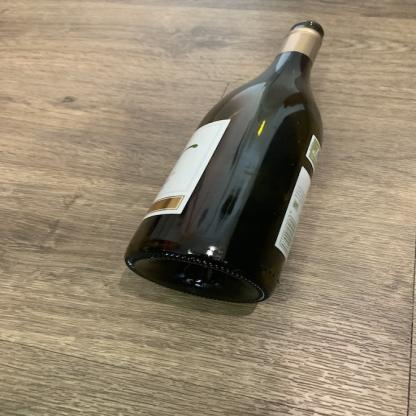trash: (122, 19, 329, 308)
